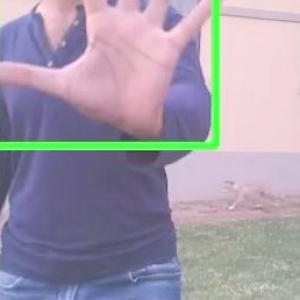follow_hand: (1, 0, 230, 140)
